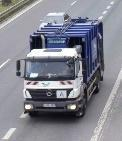Truck: (15, 12, 104, 118)
